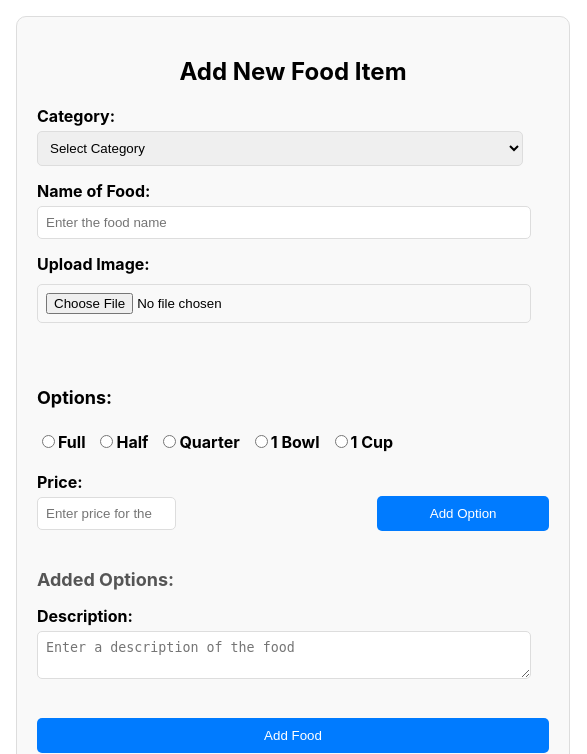
should add options correctly
Click the radio button labelled "Full" at (48, 441), box [42, 435, 55, 448]
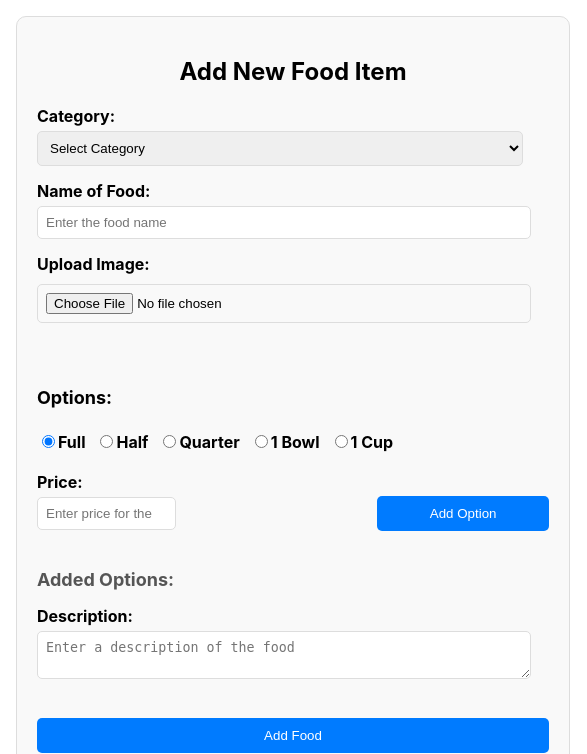
Type "100" into the number field with placeholder "Enter price for the selected option" at (107, 513), box [37, 497, 176, 530]
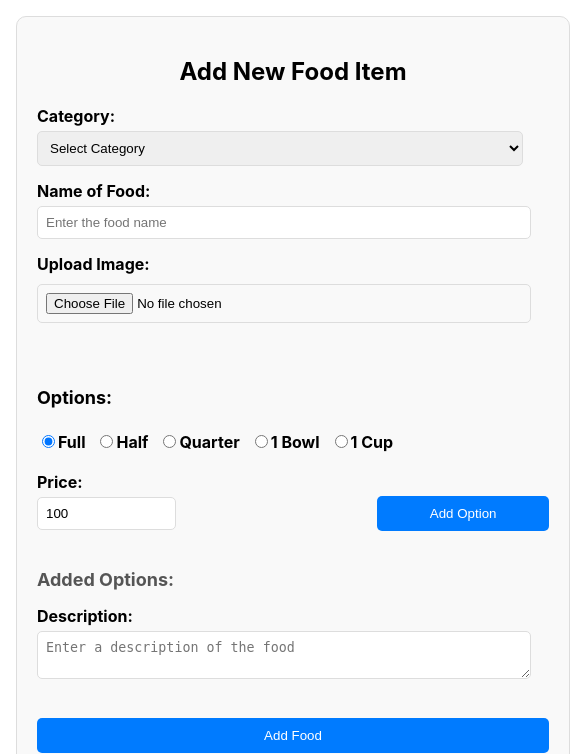
Click the button "Add Option" at (463, 513), box [377, 496, 549, 531]
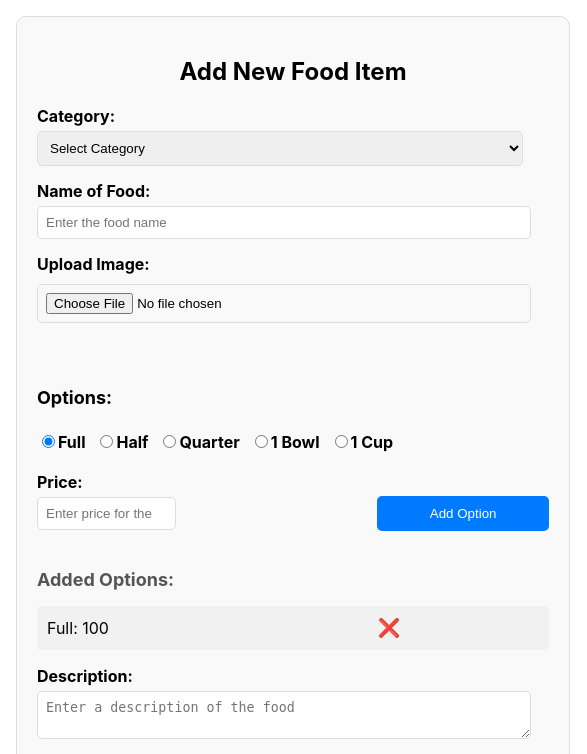
Expected: the list item "Full: 100 ❌" is shown, [37, 606, 549, 650]
